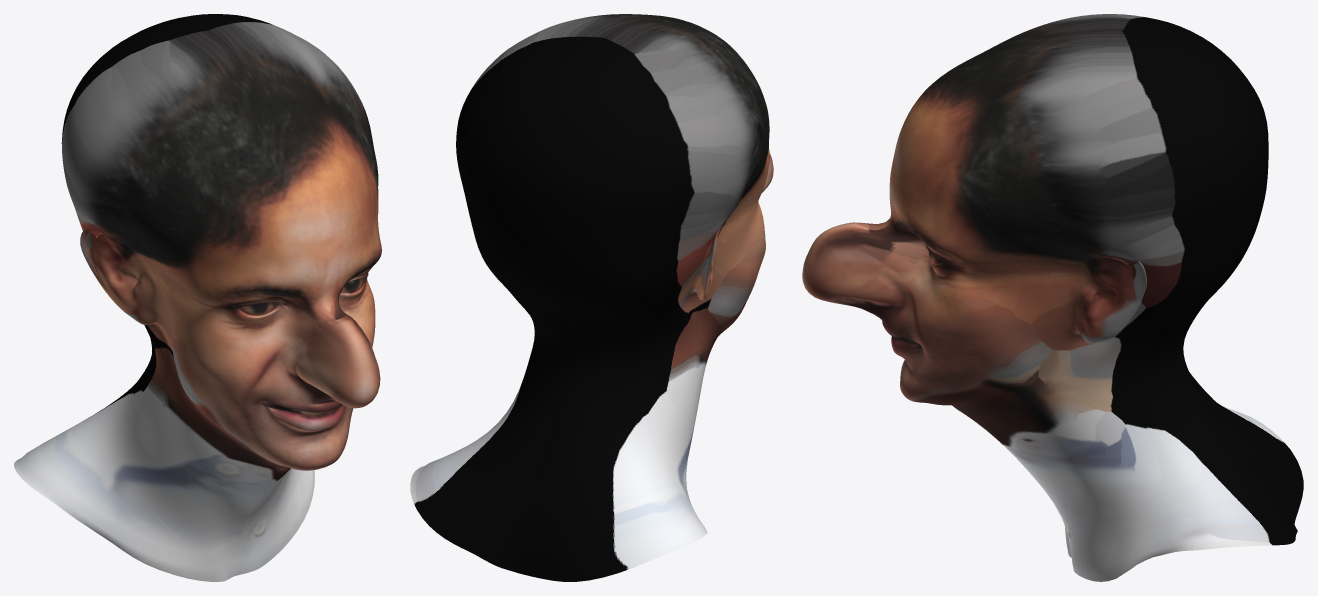
Rendered from kcrmodel.glb.
3 views of the same model, side by side, from view 1: azimuth 30°, elevation 25°; view 2: azimuth 150°, elevation 25°; view 3: azimuth 270°, elevation 25° (orthographic). The views are drawn at different scales.
Parts seen in each view (by area): view 1: FBHead.002; view 2: FBHead.002; view 3: FBHead.002.
Part boxes in pixels (<box>): FBHead.002: <box>14,14,381,581</box>; FBHead.002: <box>410,14,773,581</box>; FBHead.002: <box>802,14,1303,581</box>.
Size of the model in its own units: 1.38 by 2.44 by 2.09.
Materials: 1 (1 with a texture image).
